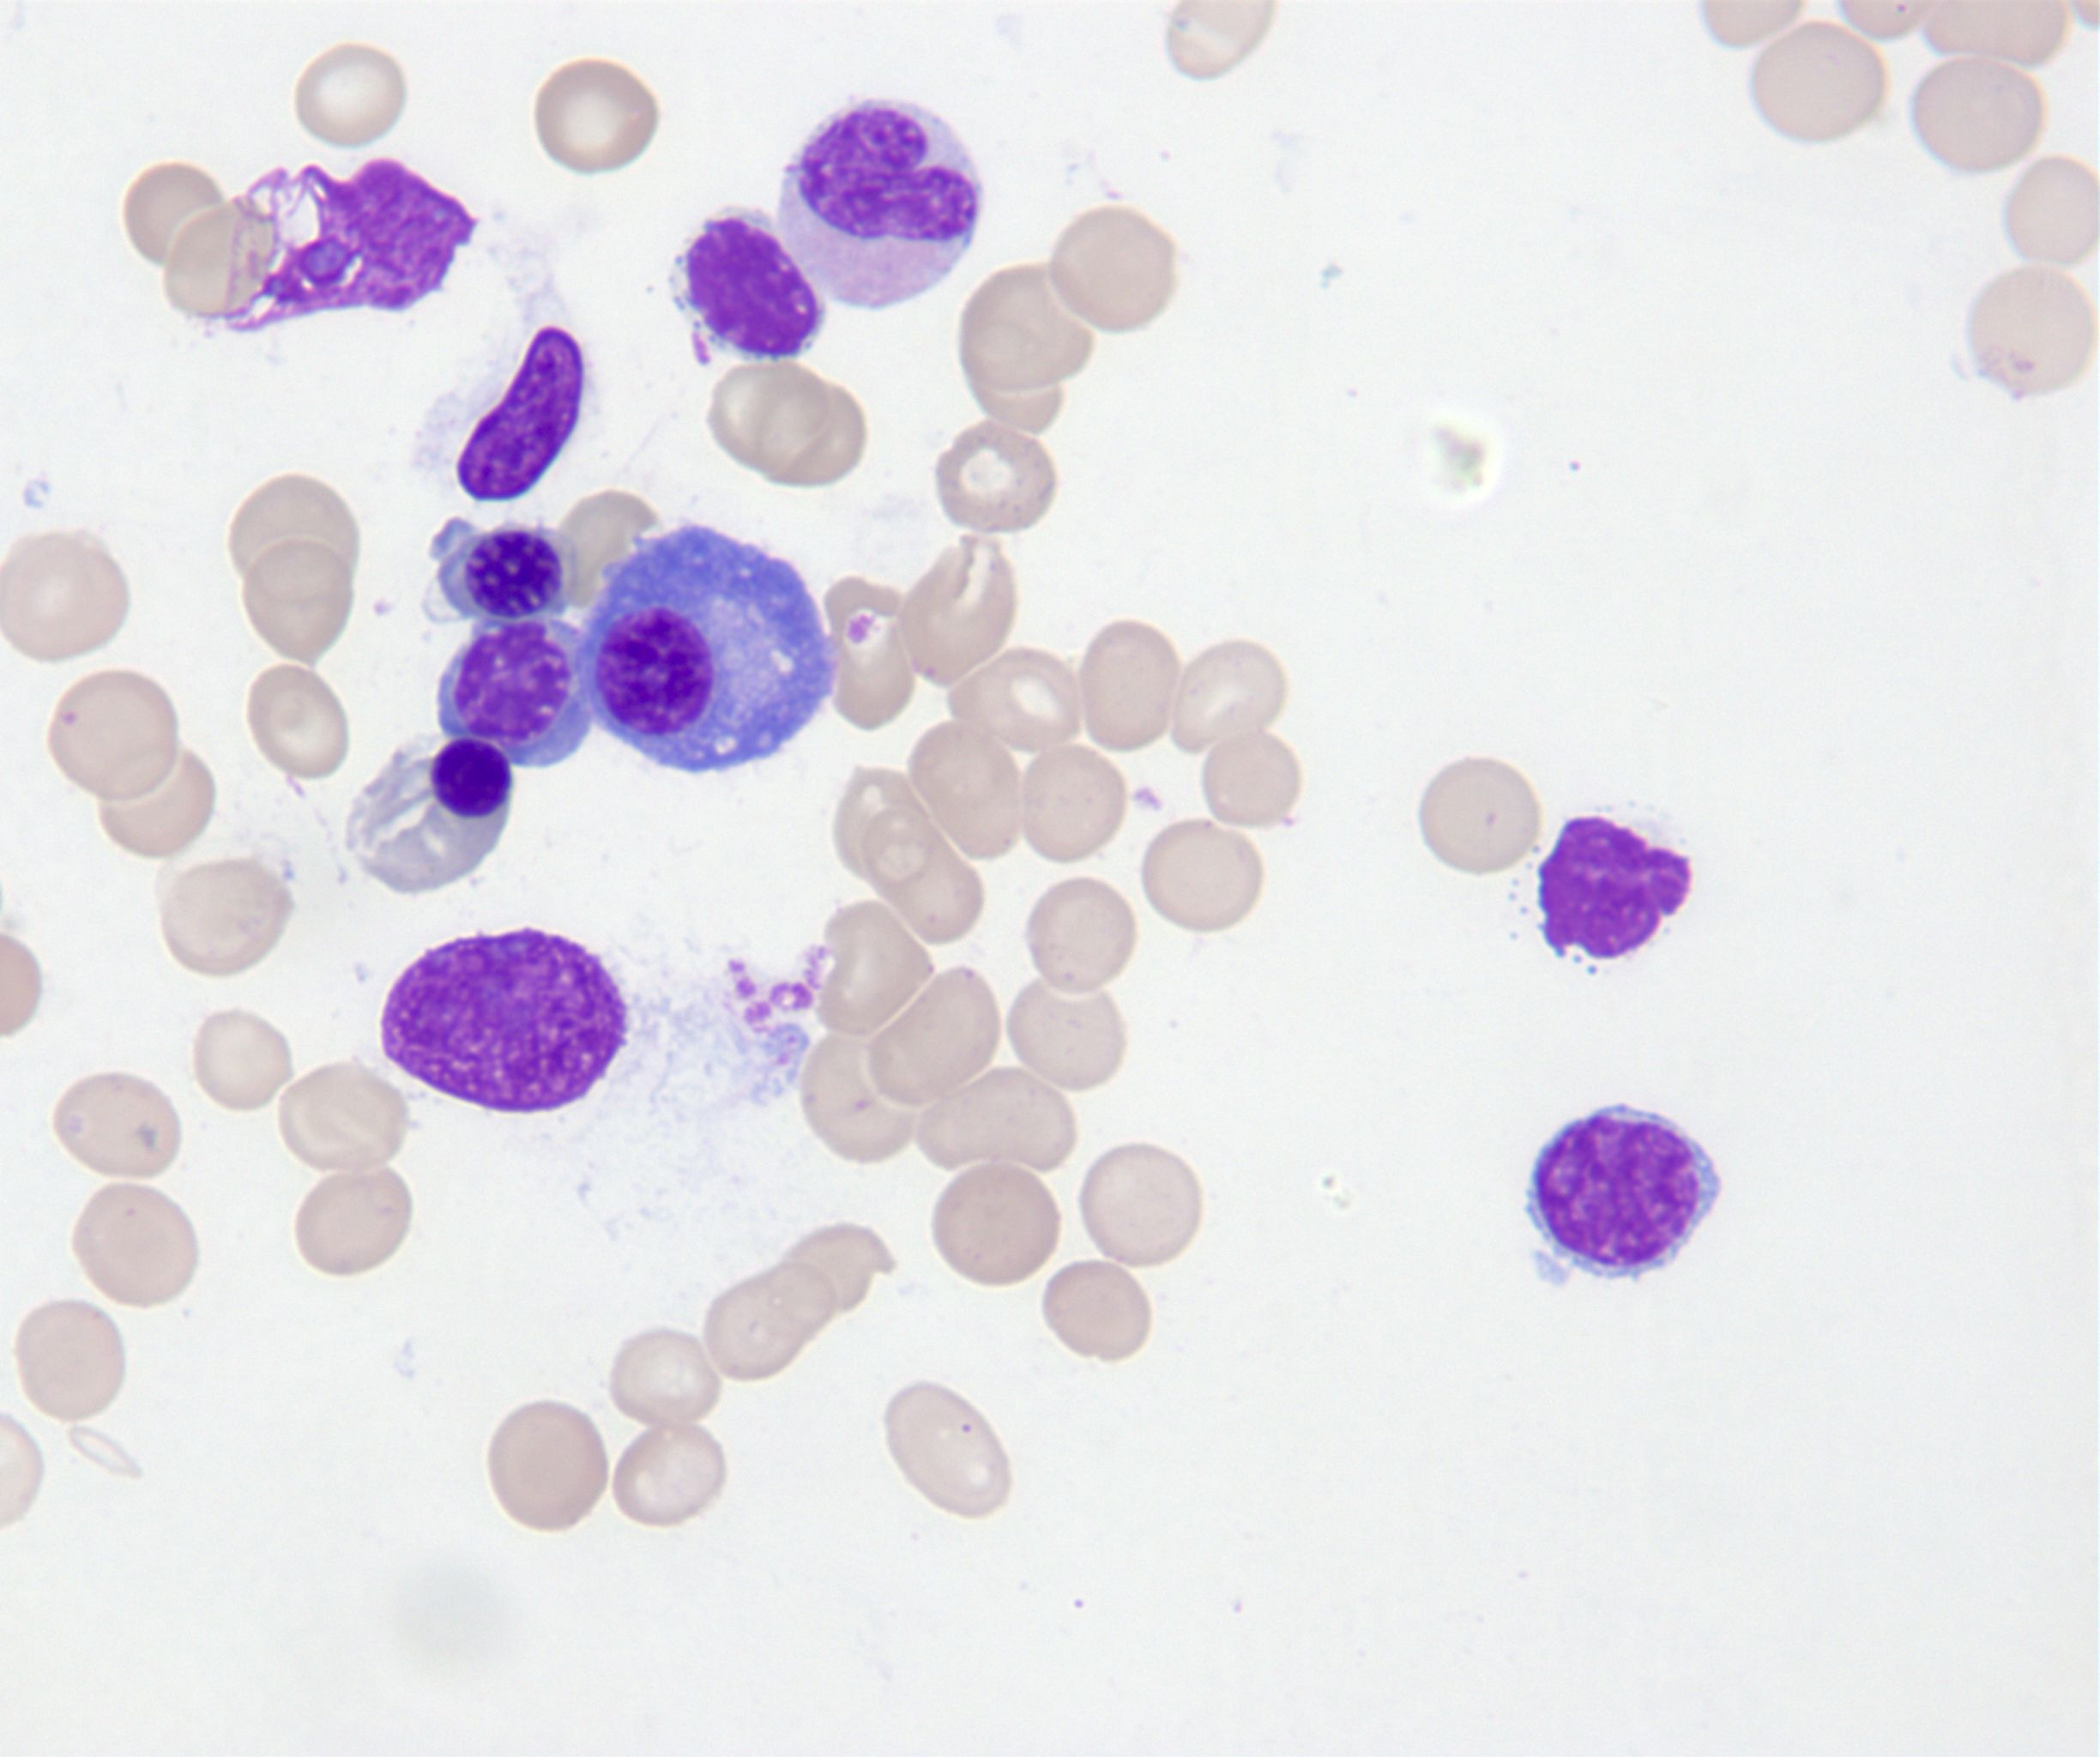23: (436, 619, 588, 768)
24: (345, 740, 513, 895), (424, 518, 576, 625)
32: (1528, 1103, 1722, 1284), (670, 206, 827, 361)
52: (579, 523, 835, 773)
6: (780, 99, 982, 309)
x: (218, 157, 478, 333), (380, 930, 626, 1113), (417, 326, 595, 499), (1540, 815, 1690, 963)
